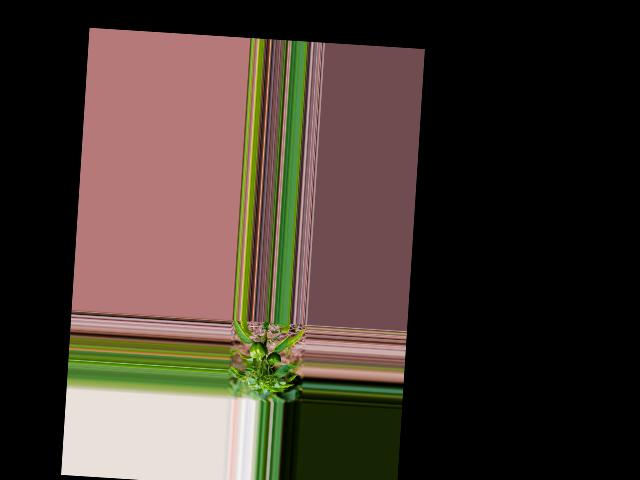bell_pepper: (266, 350, 282, 365)
